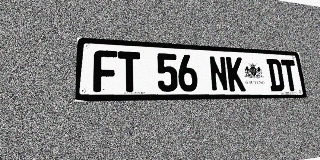5: (157, 53, 179, 92)
6: (177, 54, 198, 92)
D: (266, 59, 285, 91)
F: (93, 50, 117, 92)
K: (226, 57, 246, 91)
N: (208, 56, 229, 91)
T: (118, 51, 141, 92), (281, 59, 299, 91)
